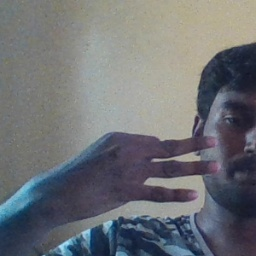K: (56, 129, 223, 214)
